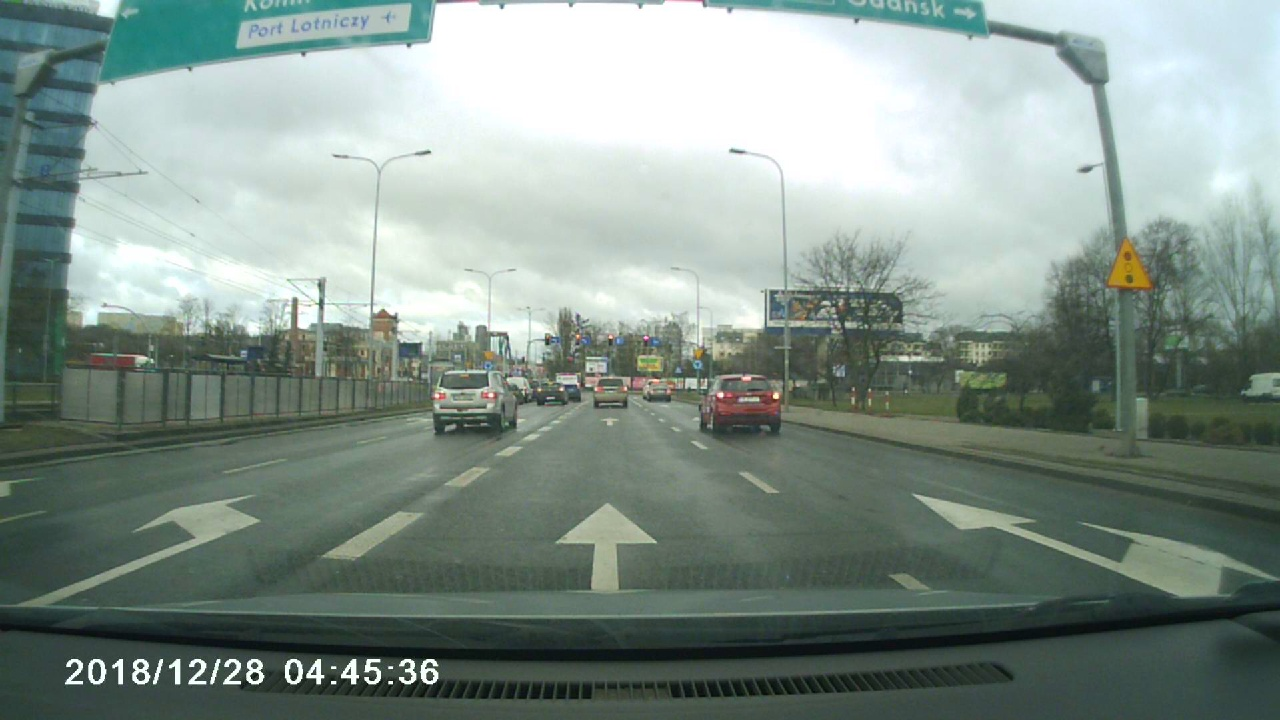A29: (1101, 233, 1155, 292)
